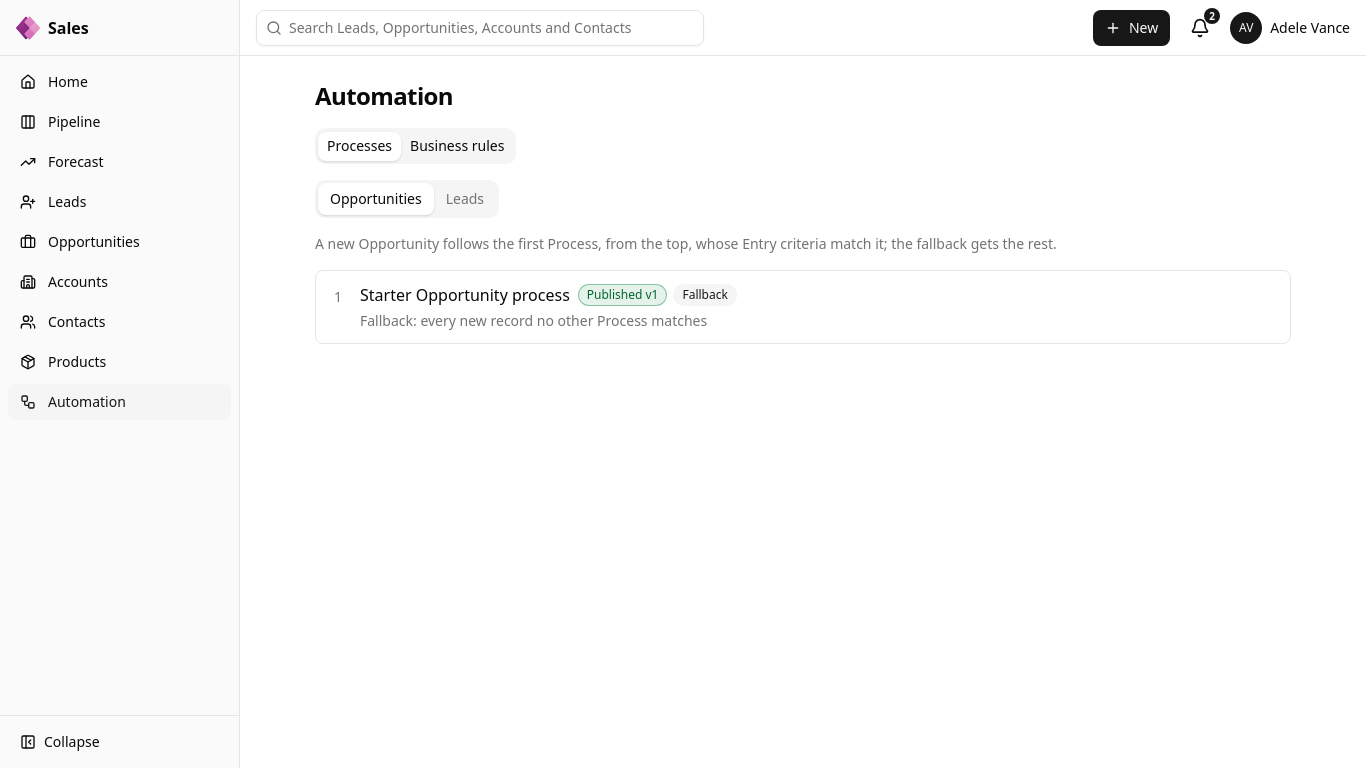
Test: the Business rules tab › shows a salesperson the rules but no way to change them
Click the tab "Business rules". click: (457, 146)
box: [401, 132, 513, 160]
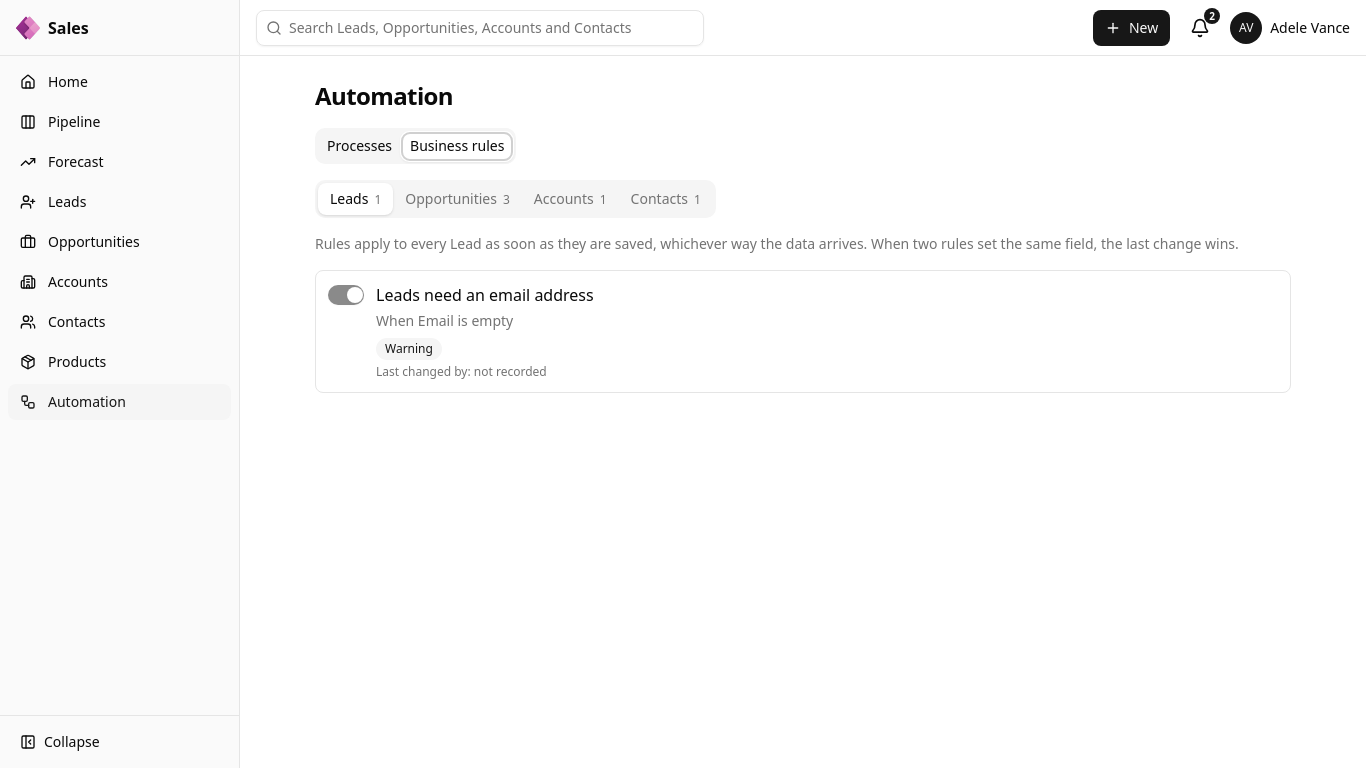
Click the button "Contacts1". click: (666, 199)
box: [619, 183, 713, 215]
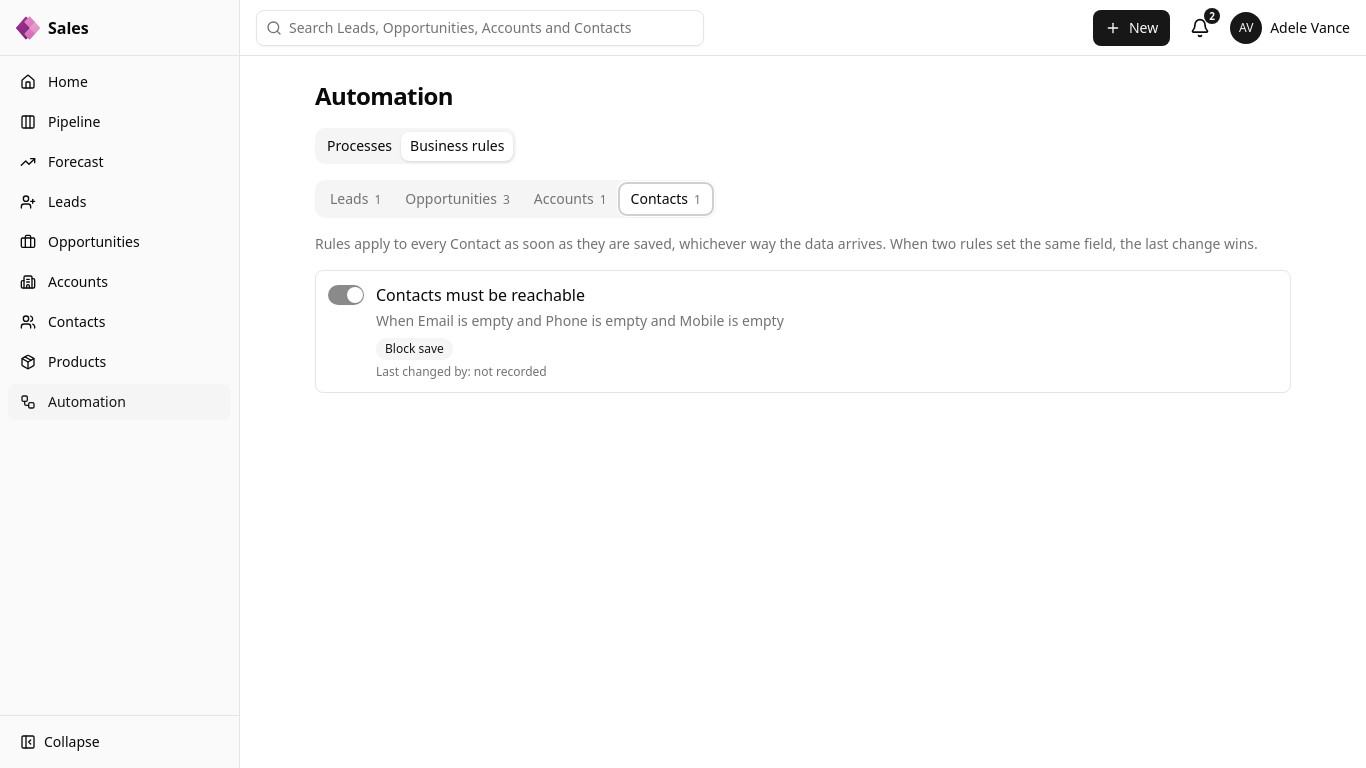
Result: the switch is disabled at [328, 285, 364, 305]
Click the button "Contacts must be reachable". click: (480, 295)
box: [376, 283, 585, 307]
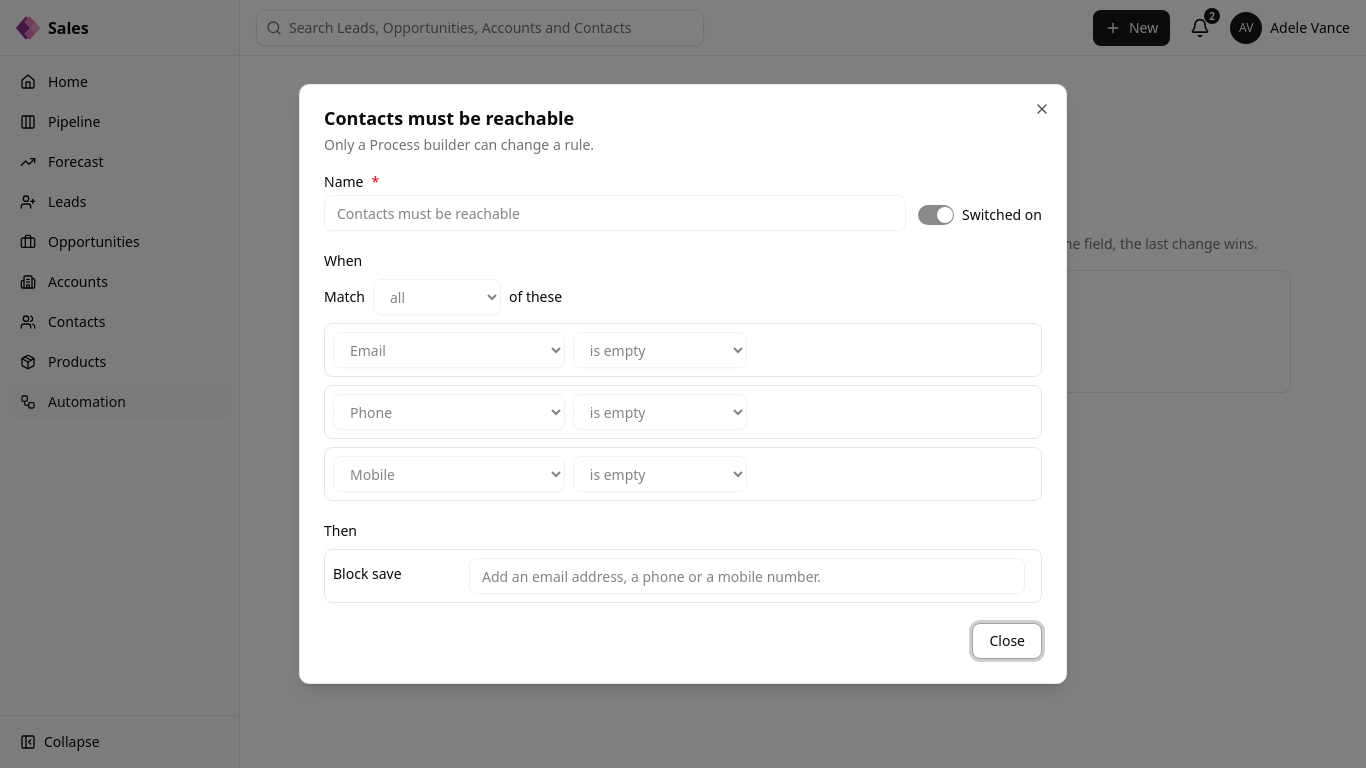
Result: the text "Only a Process builder can change a rule." is shown at [324, 135, 594, 154]
